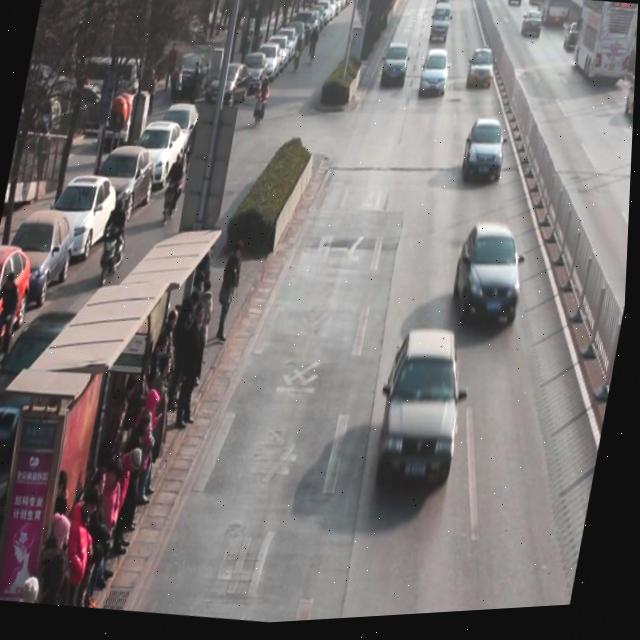car: (374, 330, 481, 507), (449, 223, 536, 342), (461, 119, 512, 192), (419, 52, 453, 105), (380, 45, 413, 97), (466, 51, 499, 98), (563, 27, 588, 62), (521, 16, 546, 47), (625, 84, 636, 135)
truck: (429, 5, 455, 50)
van: (567, 3, 639, 94)
